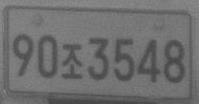0: (36, 33, 58, 78)
3: (87, 36, 109, 80)
4: (136, 38, 162, 84)
5: (113, 38, 136, 81)
8: (162, 38, 186, 84)
9: (11, 32, 34, 77)
조: (60, 43, 83, 80)
